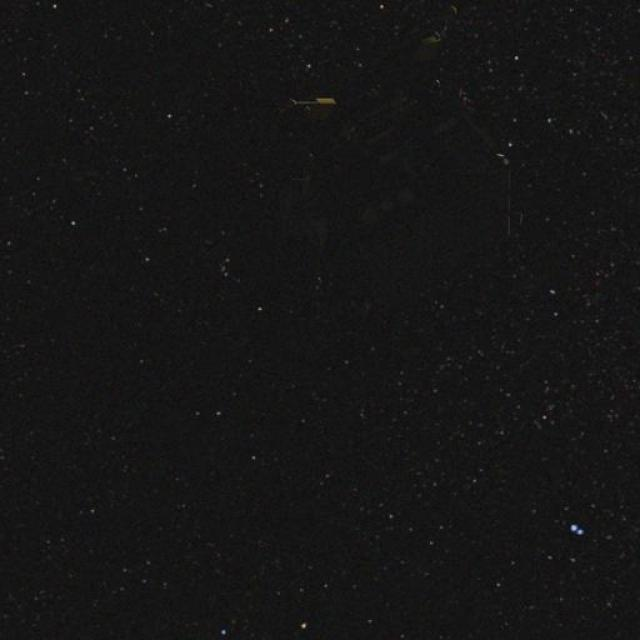proba_2: (203, 25, 475, 288)
